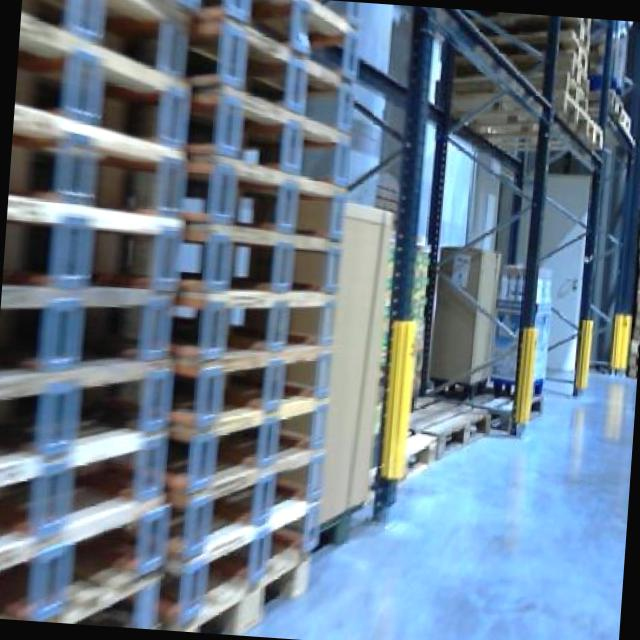pallet: (404, 394, 503, 492)
